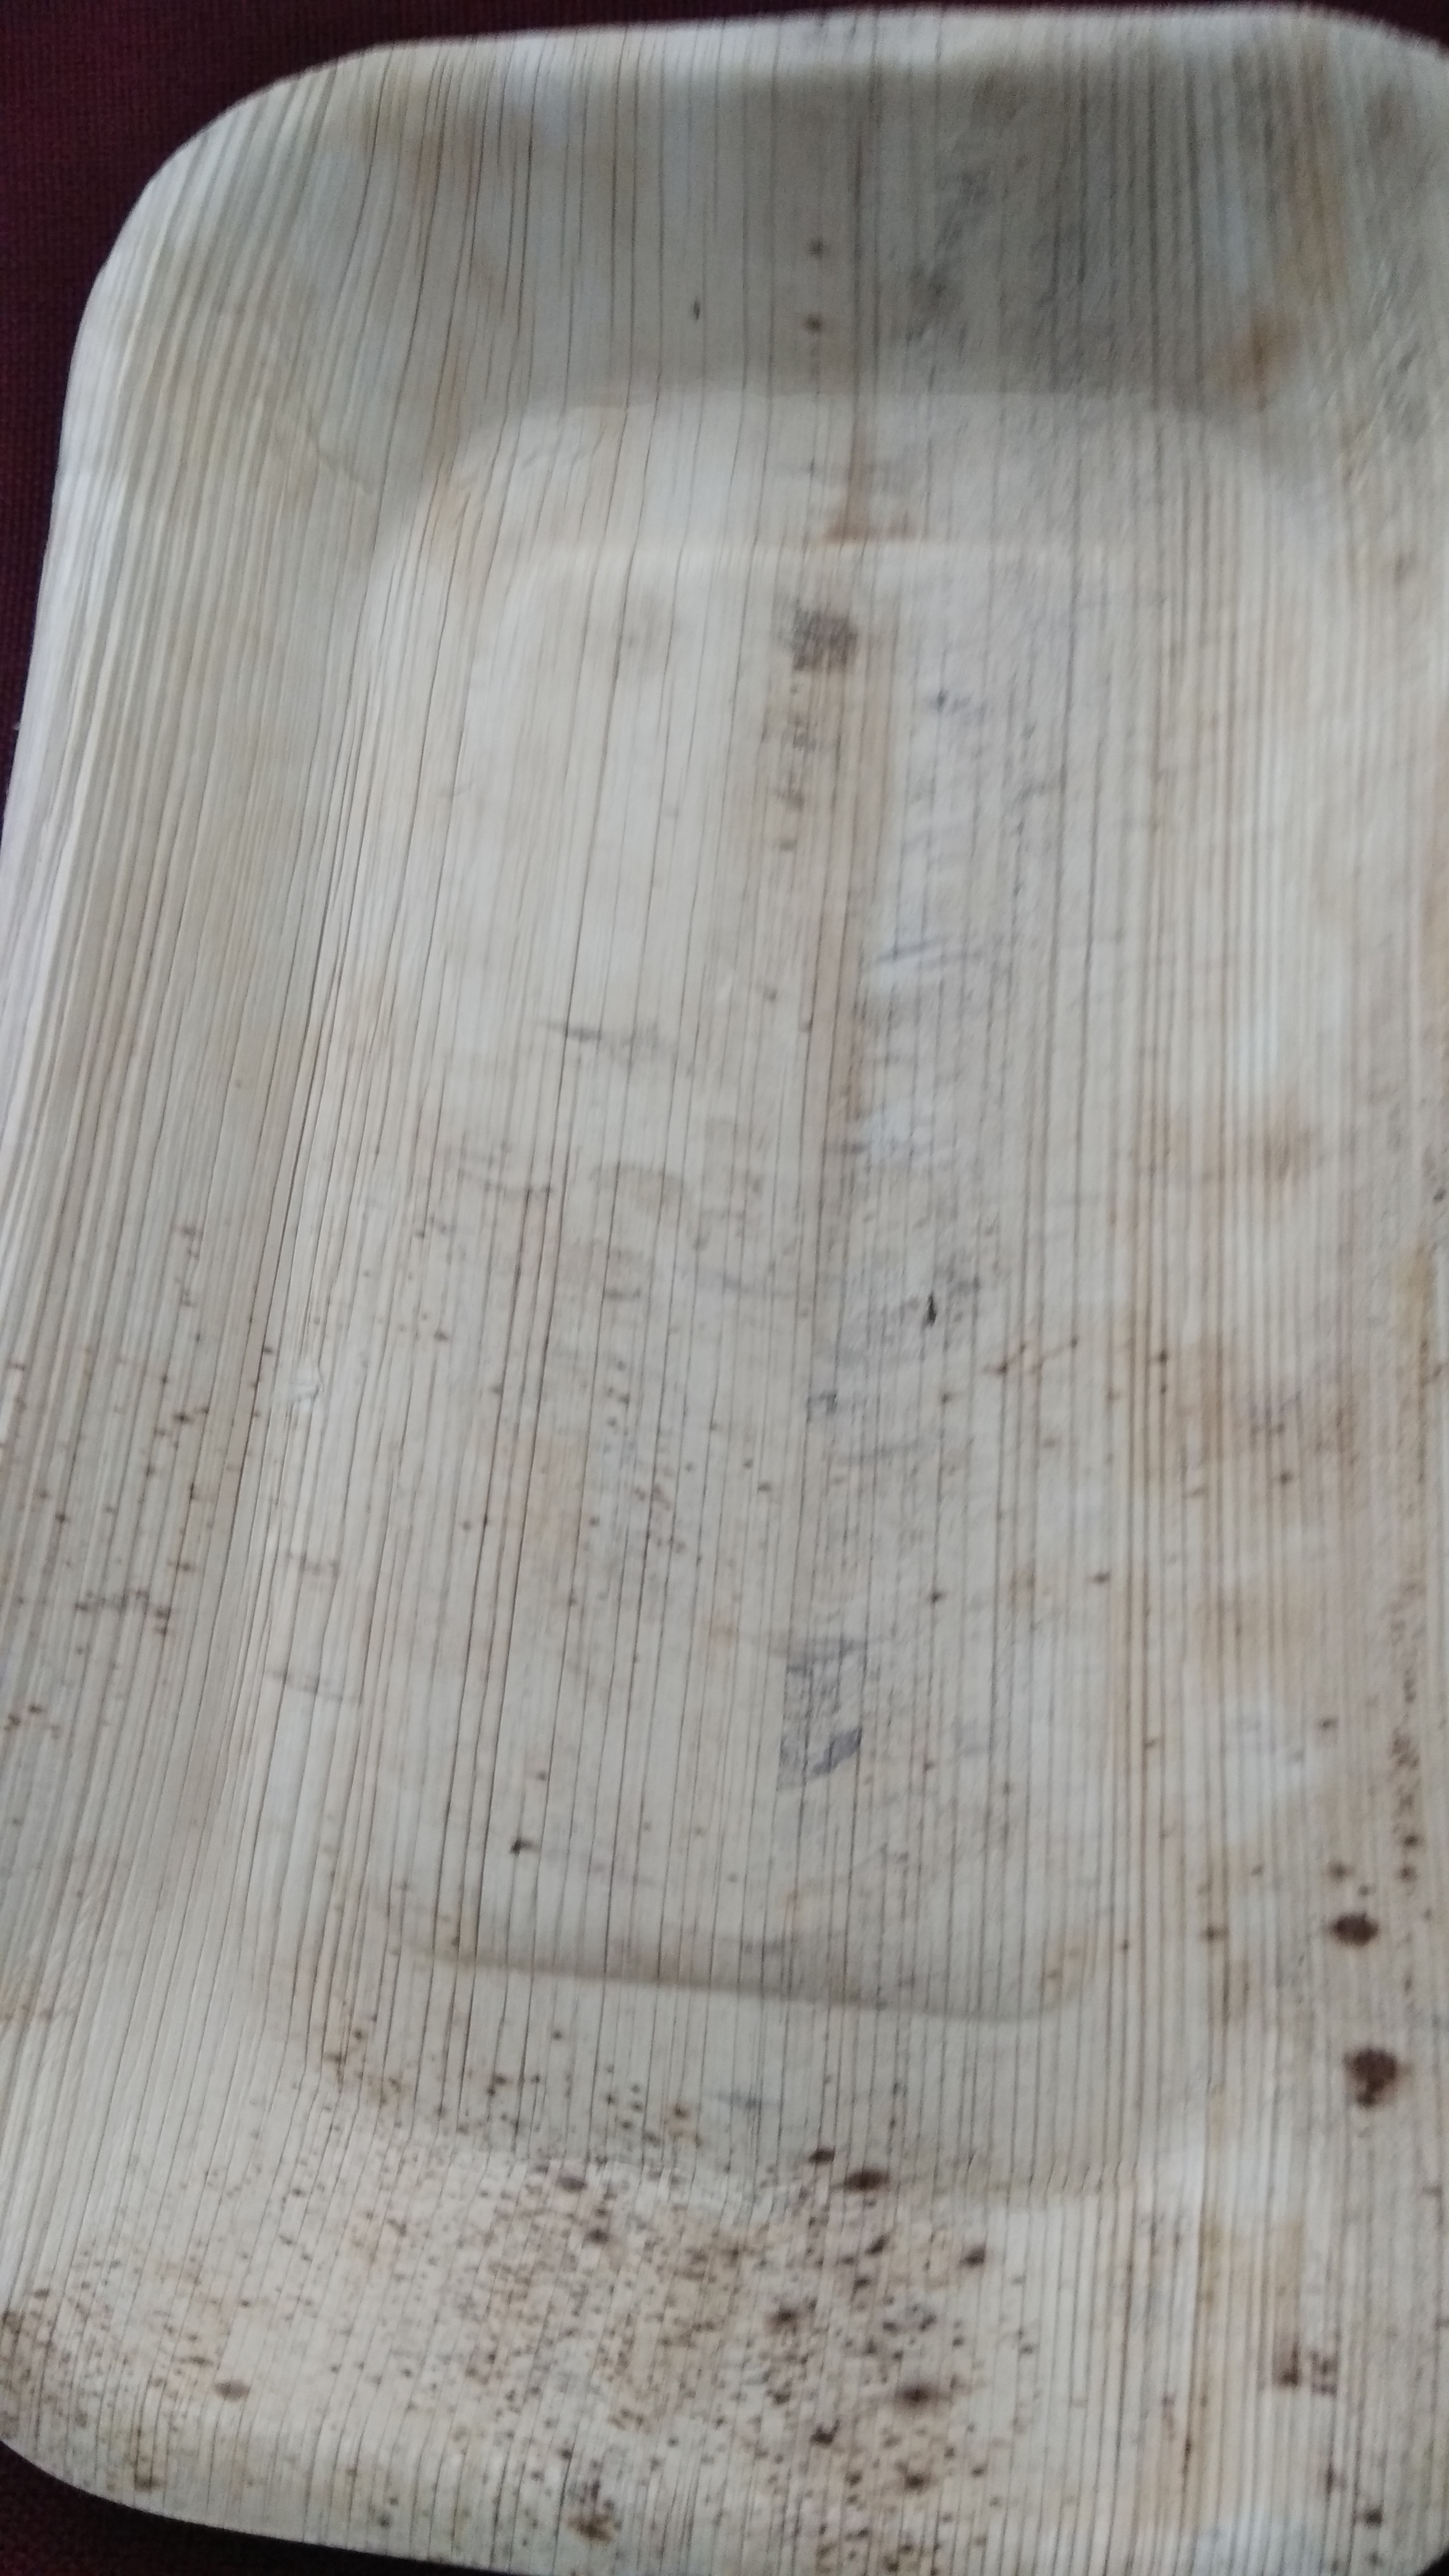areca plate: (50, 41, 1445, 2564)
